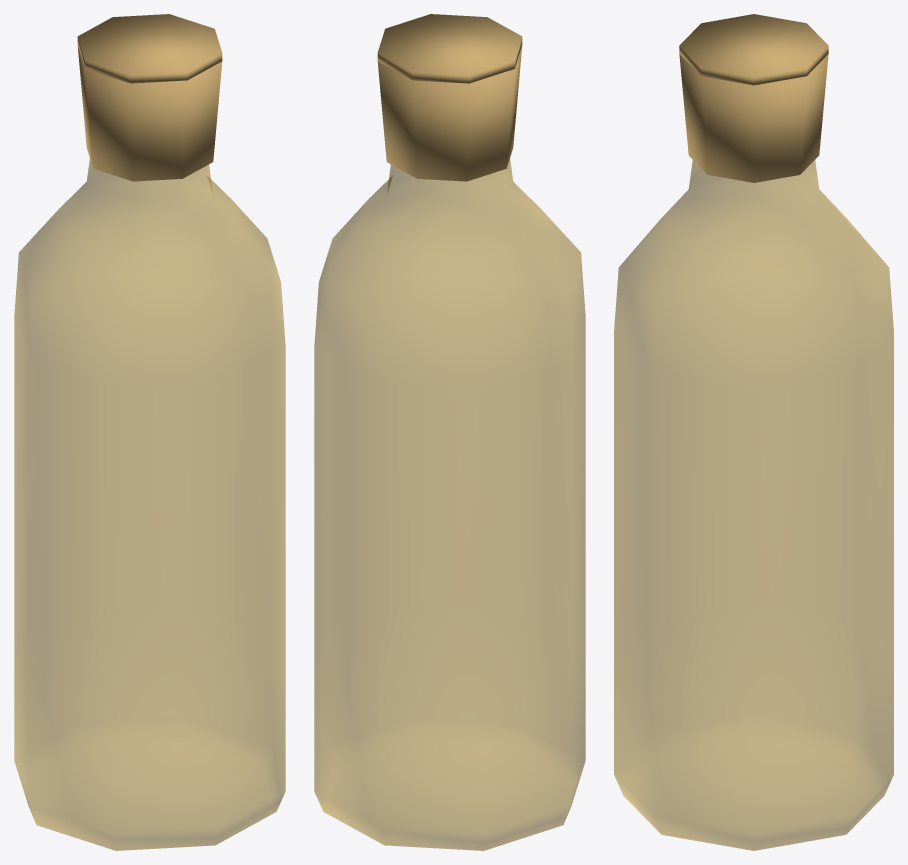
File: epure.glb
3 renders of one model, left to right at view 1: azimuth 30°, elevation 25°; view 2: azimuth 150°, elevation 25°; view 3: azimuth 270°, elevation 25°, orthographic.
Visible parts, largest first — view 1: epure; view 2: epure; view 3: epure.
Boxes of the visible parts, <box> form: epure: <box>14,14,285,850</box>; epure: <box>314,14,585,850</box>; epure: <box>614,14,893,850</box>.
Bounding box in the file's own units: 1.2 × 3.55 × 1.2.
